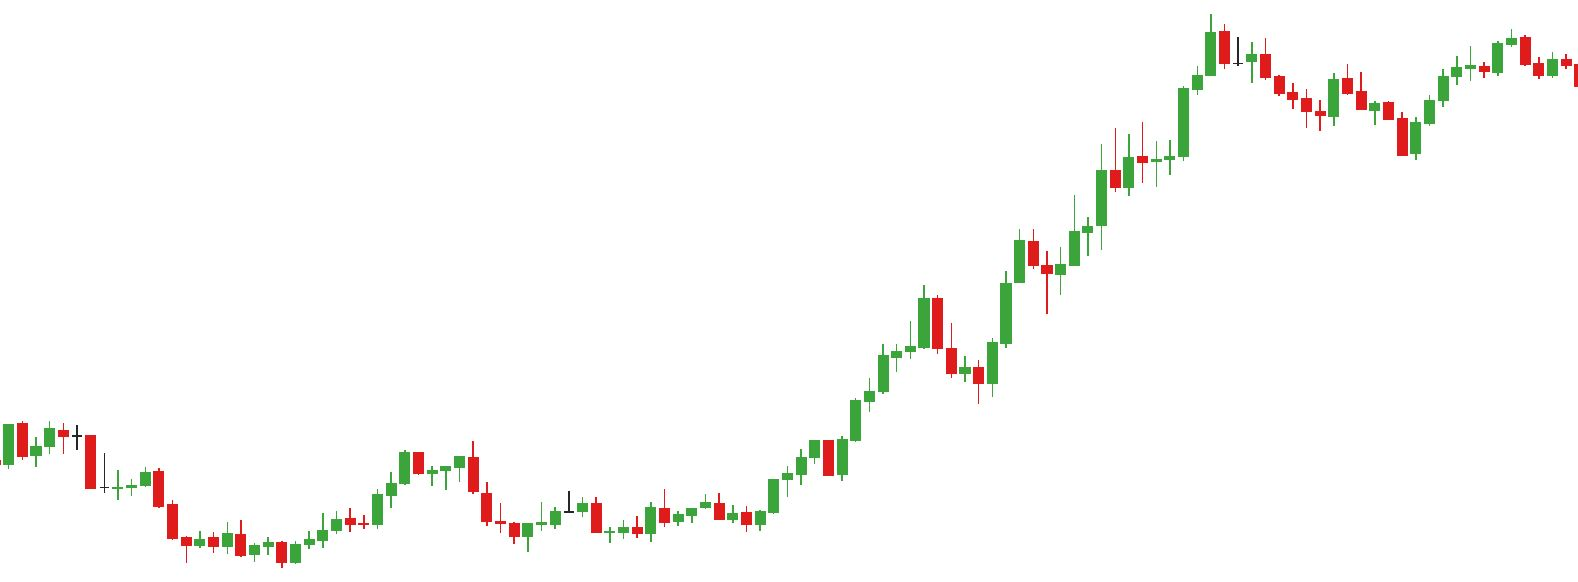sell: (398, 440, 481, 490)
